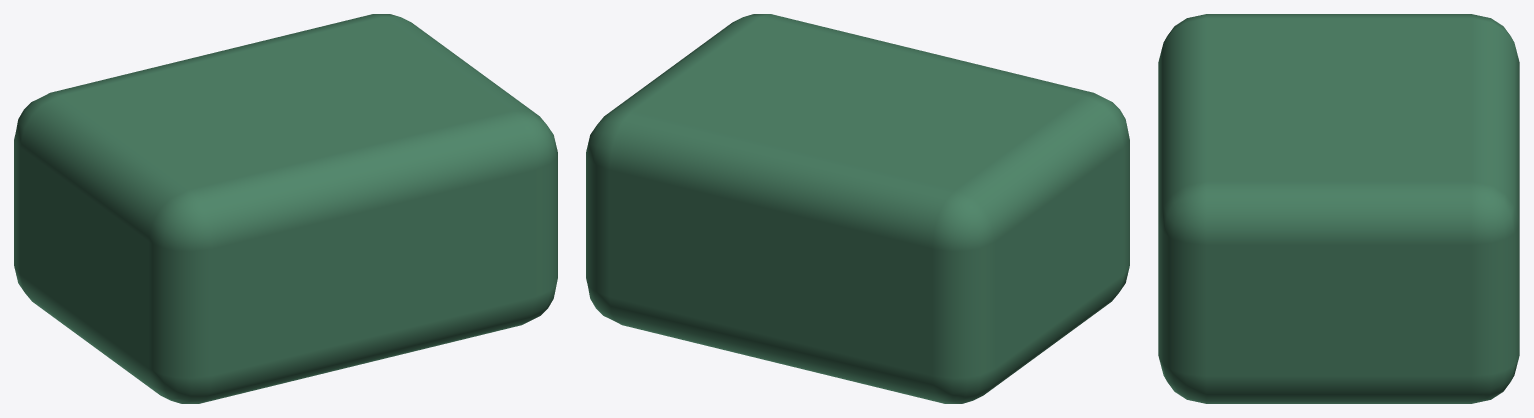
File: clockmaker-and-watch-repair-watch-display-cushion-46866ac1__30633.glb
3 renders of one model, left to right at view 1: azimuth 30°, elevation 25°; view 2: azimuth 150°, elevation 25°; view 3: azimuth 270°, elevation 25°, orthographic. The views are drawn at different scales.
Visible parts, largest first — view 1: watch-display-cushion; view 2: watch-display-cushion; view 3: watch-display-cushion.
Part boxes in pixels (bbox=[...]): watch-display-cushion: bbox=[14, 14, 557, 403]; watch-display-cushion: bbox=[586, 14, 1129, 403]; watch-display-cushion: bbox=[1158, 14, 1519, 403].
Size of the model in its own units: 0.1 by 0.05 by 0.075.
